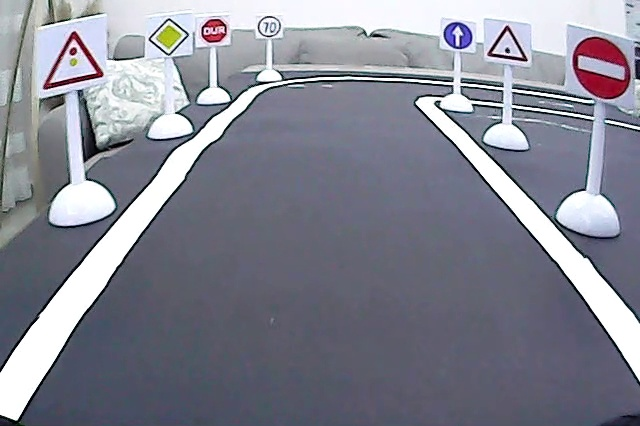do not enter: (566, 32, 633, 107)
green light: (484, 22, 531, 66)
red light: (41, 26, 108, 91)
speed limit 70: (256, 14, 282, 38)
stop sign: (199, 15, 231, 47)
